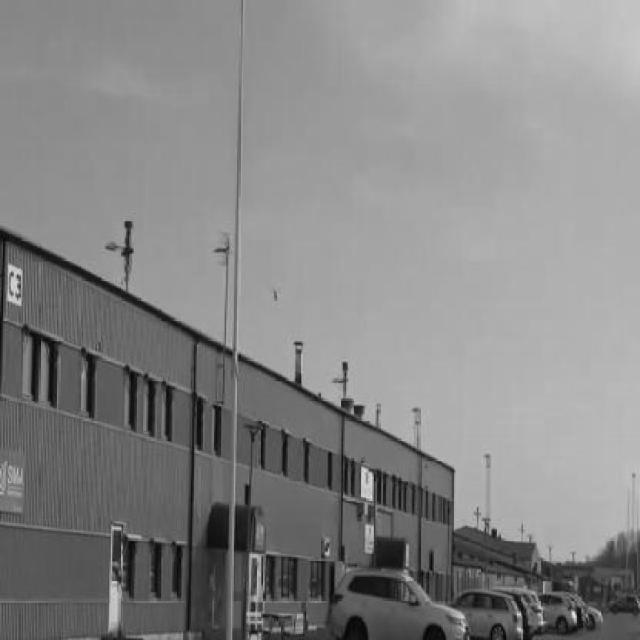helikopter: (270, 282, 282, 306)
